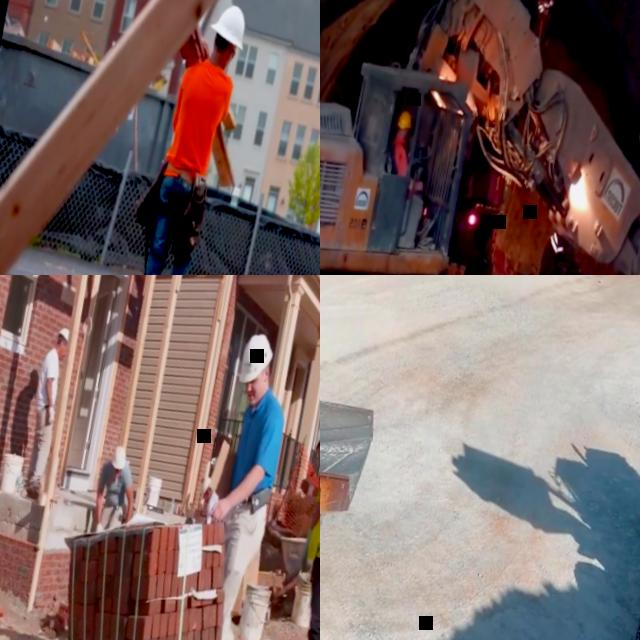Hardhat: (206, 0, 250, 50), (236, 332, 274, 388), (109, 441, 128, 468), (196, 474, 211, 496), (396, 110, 412, 130), (58, 324, 70, 341), (313, 421, 320, 447)
NO-Mask: (246, 385, 263, 404), (58, 347, 66, 358), (111, 472, 119, 483), (400, 130, 406, 140)
NO-Safety Vest: (161, 58, 236, 183), (226, 394, 288, 508), (96, 462, 129, 513), (33, 349, 61, 409), (201, 489, 218, 522), (316, 454, 320, 481)
Person: (173, 329, 304, 640), (119, 0, 254, 275), (267, 345, 320, 640), (17, 324, 75, 498), (86, 439, 143, 540), (192, 475, 221, 521), (305, 422, 320, 495)
Safety Vest: (387, 136, 411, 176)
vehicle: (320, 0, 640, 275), (320, 347, 398, 640)
